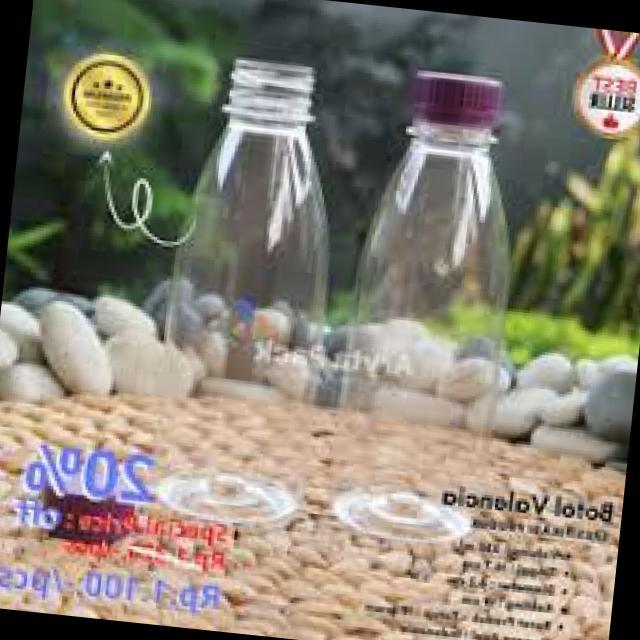good: (310, 50, 572, 538), (135, 31, 346, 532)
